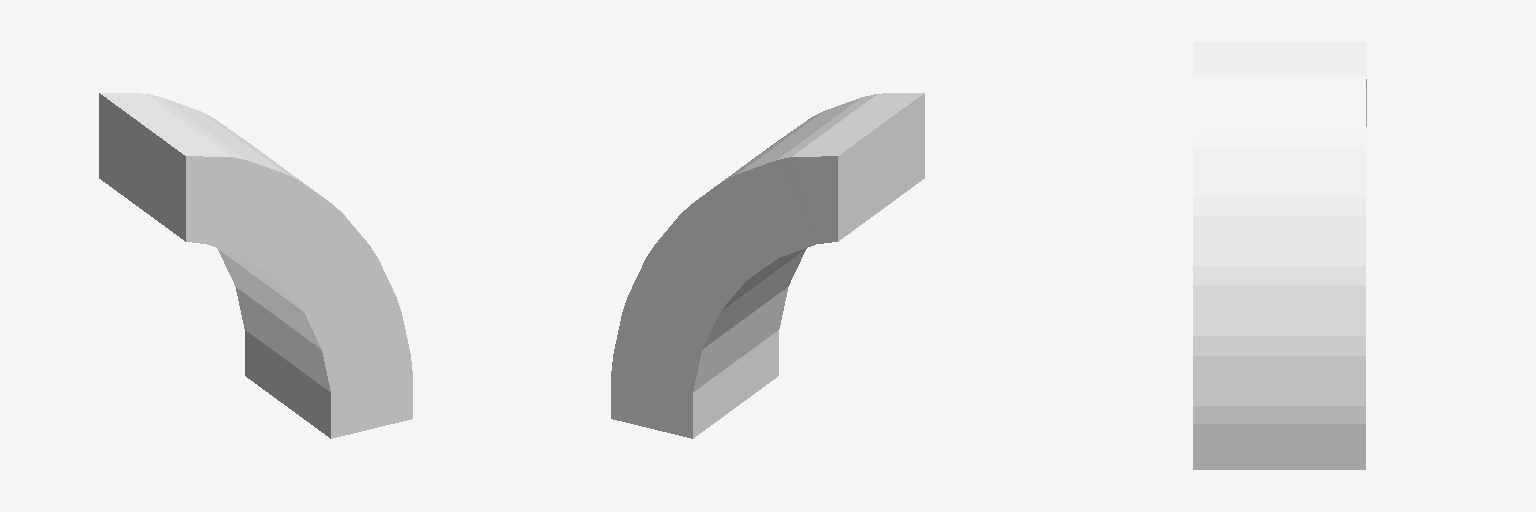
Rendered from smooth_gothic_arch_2.obj.
3 views of the same model, side by side, from view 1: azimuth 30°, elevation 25°; view 2: azimuth 150°, elevation 25°; view 3: azimuth 270°, elevation 25° (orthographic).
Visible parts, largest first — view 1: cube.003; view 2: cube.003; view 3: cube.003.
Part boxes in pixels (x1,y1,x2,y2): cube.003: (99, 93, 412, 438); cube.003: (611, 93, 924, 438); cube.003: (1193, 42, 1366, 469).
Size of the model in its own units: 1.55 by 2.08 by 1.02.